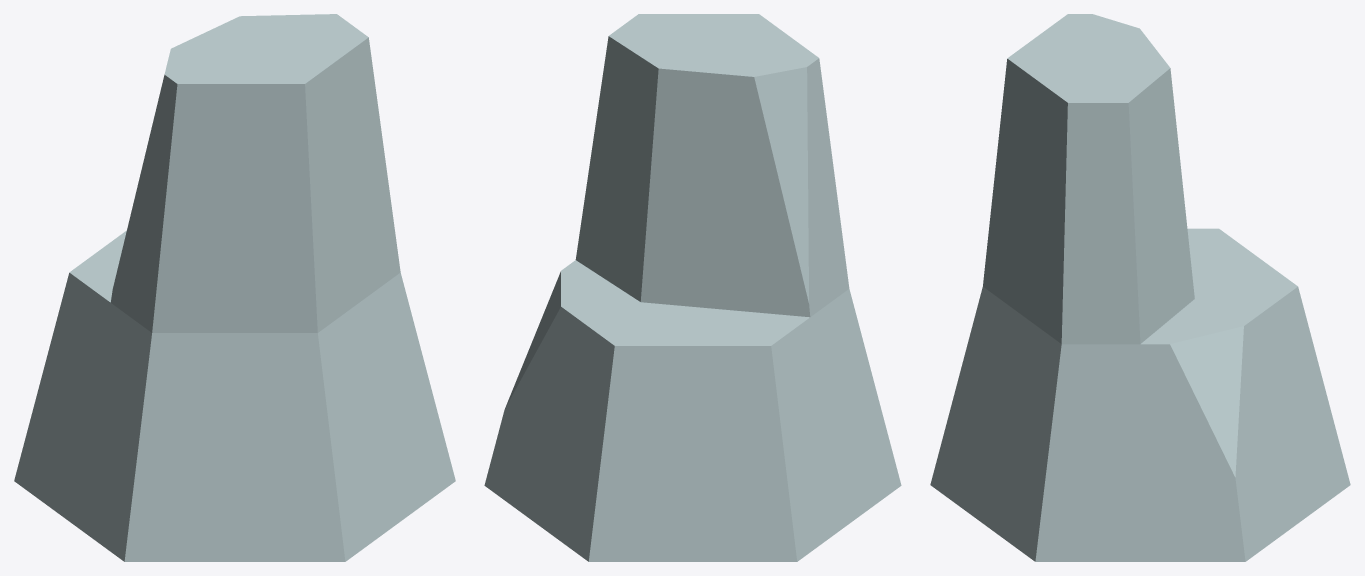
File: stone_tallF.glb
3 views of the same model, side by side, from view 1: azimuth 30°, elevation 25°; view 2: azimuth 150°, elevation 25°; view 3: azimuth 270°, elevation 25° (orthographic). The views are drawn at different scales.
Visible parts, largest first — view 1: stone_tallF; view 2: stone_tallF; view 3: stone_tallF.
Boxes of the visible parts, box(x1,y1,x2,y2) form: stone_tallF: box(14, 14, 455, 561); stone_tallF: box(484, 14, 901, 561); stone_tallF: box(930, 14, 1350, 561).
Bounding box in the file's own units: 0.4437 × 0.5737 × 0.5123.
